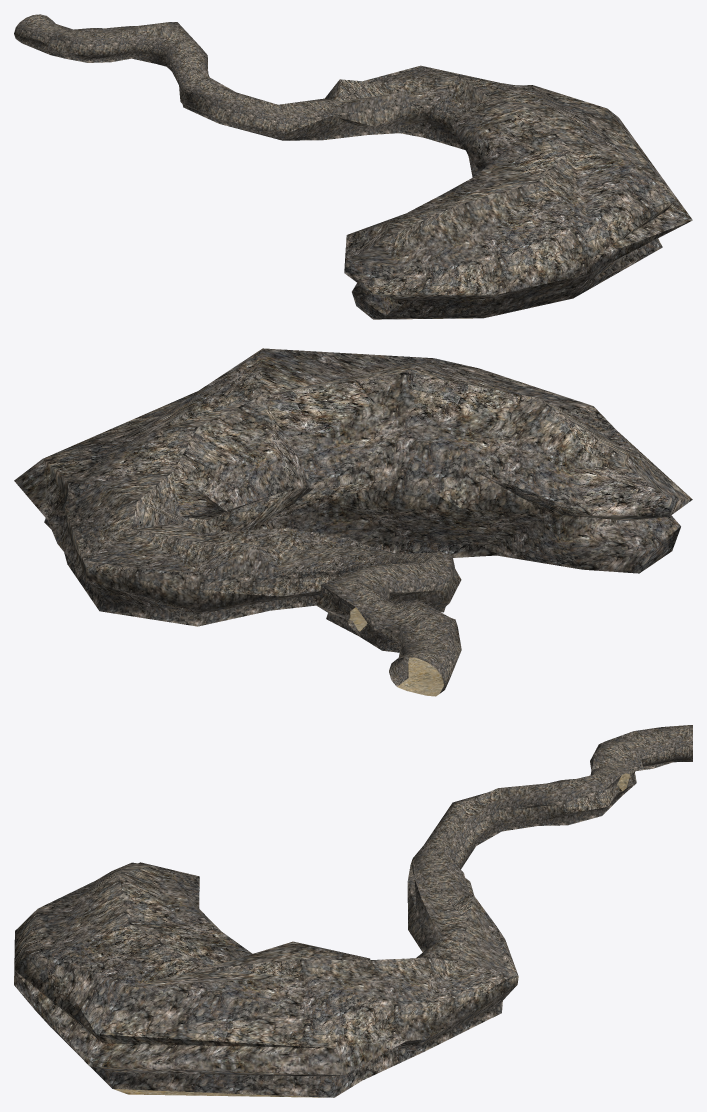
Rendered from pir_m_are_cav_cellar_A.fbx.
3 views of the same model, one above another, from view 1: azimuth 30°, elevation 25°; view 2: azimuth 150°, elevation 25°; view 3: azimuth 270°, elevation 25° (orthographic). The views are drawn at different scales.
Visible parts, largest first — view 1: cave_wing_A_wall; view 2: cave_wing_A_wall, cave_wing_A_floor; view 3: cave_wing_A_wall, cave_wing_A_floor.
Boxes of the visible parts, <box> form: cave_wing_A_wall: <box>14,14,692,319</box>; cave_wing_A_wall: <box>14,348,692,693</box>; cave_wing_A_floor: <box>349,607,443,696</box>; cave_wing_A_wall: <box>14,725,692,1097</box>; cave_wing_A_floor: <box>113,773,630,1097</box>.
Bounding box in the file's own units: 29518 × 9253 × 33945.
Materials: 2 (2 with a texture image).
